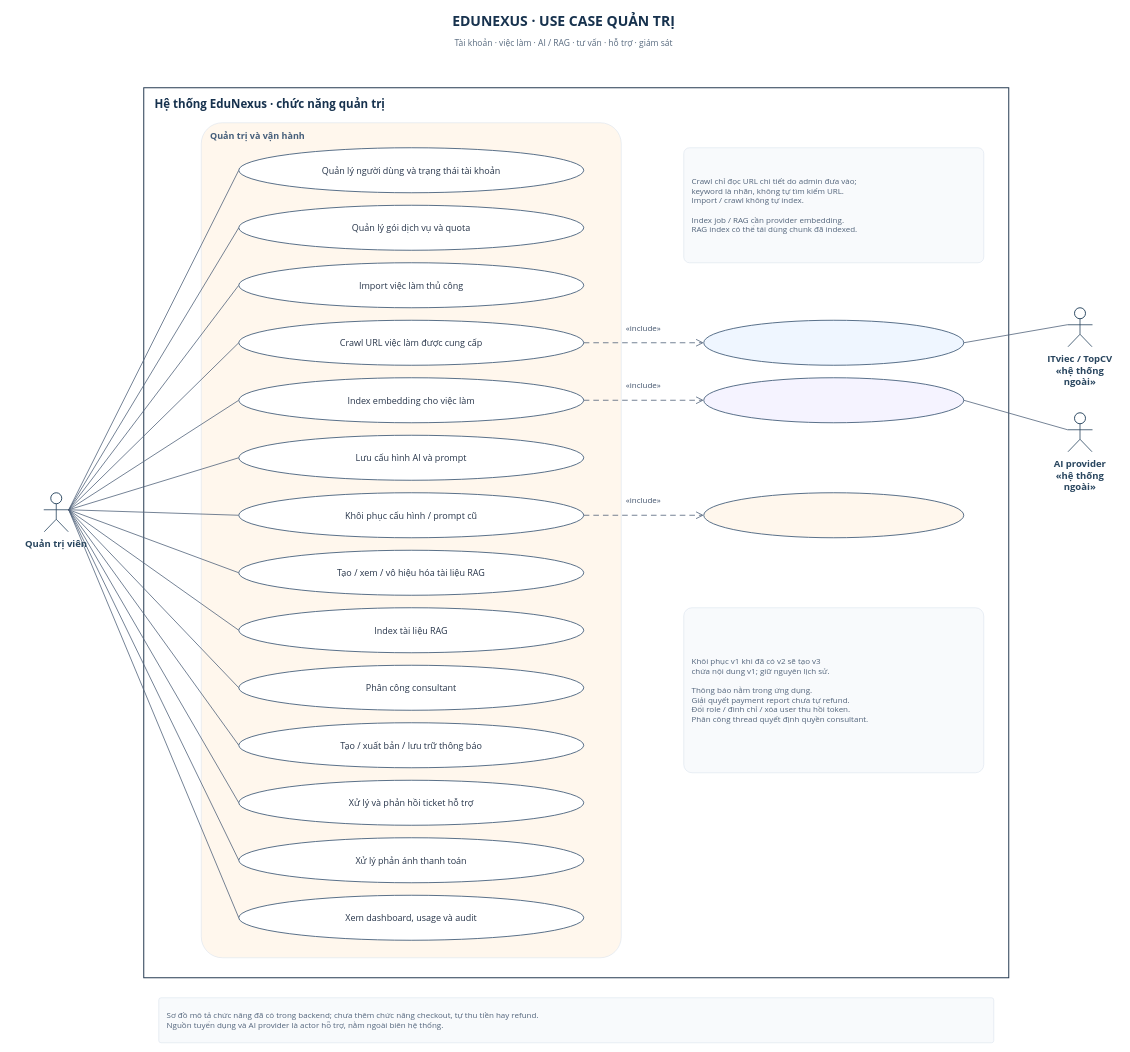
Some shapes in this 1130 by 1052 pixel diagram are drawn without their labels. Each missing label, with the centre of its shape:
Sinh embedding cho việc làm: the point at 833,400
Thu thập và đọc trang chi tiết JobPosting: the point at 833,342
Tạo phiên bản mới và kích hoạt nội dung đã chọn: the point at 833,515
